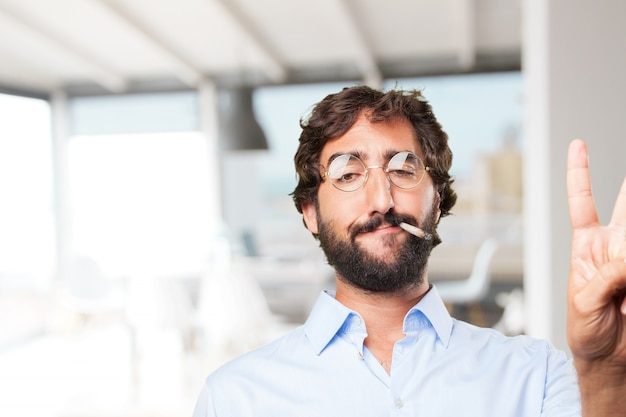cigarette: (396, 220, 432, 242)
